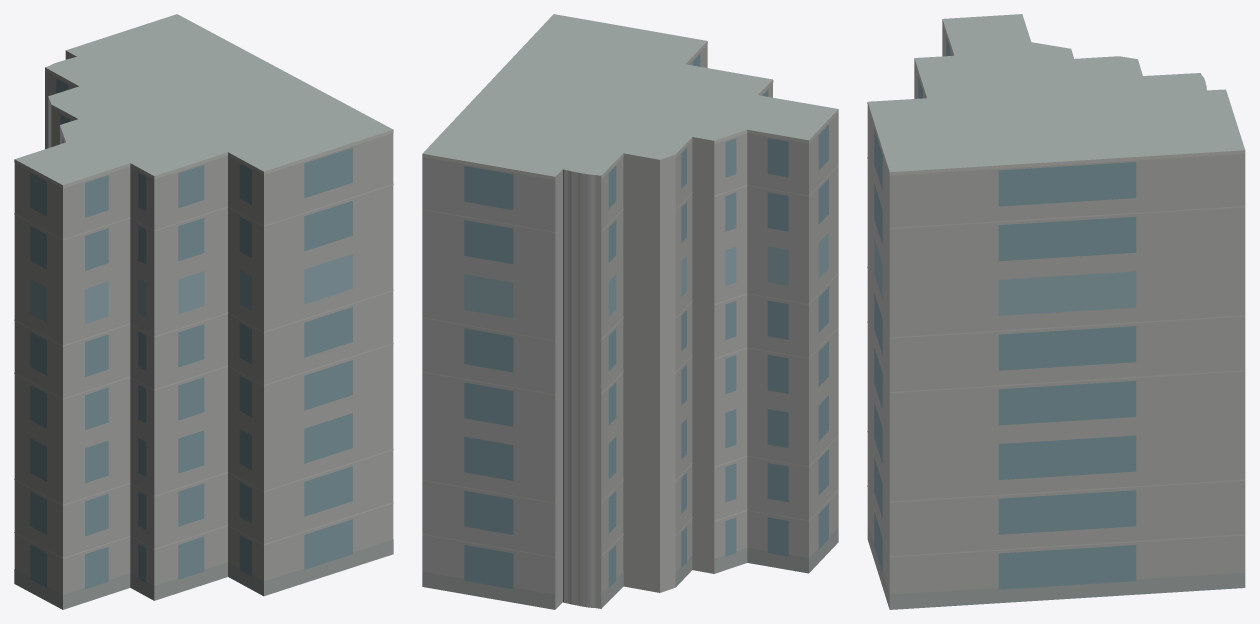
The model's file is survey-upis-32999259.glb.
The picture shows the model from 3 angles, left to right: view 1: azimuth 30°, elevation 25°; view 2: azimuth 150°, elevation 25°; view 3: azimuth 270°, elevation 25°; orthographic projection. The views are drawn at different scales.
Visible parts, largest first — view 1: survey-upis-32999259.tmp; view 2: survey-upis-32999259.tmp; view 3: survey-upis-32999259.tmp.
Part boxes in pixels (<box>): survey-upis-32999259.tmp: <box>14,14,393,609</box>; survey-upis-32999259.tmp: <box>422,14,838,609</box>; survey-upis-32999259.tmp: <box>867,14,1245,609</box>.
Size of the model in its own units: 23.91 by 30.8 by 24.11.
